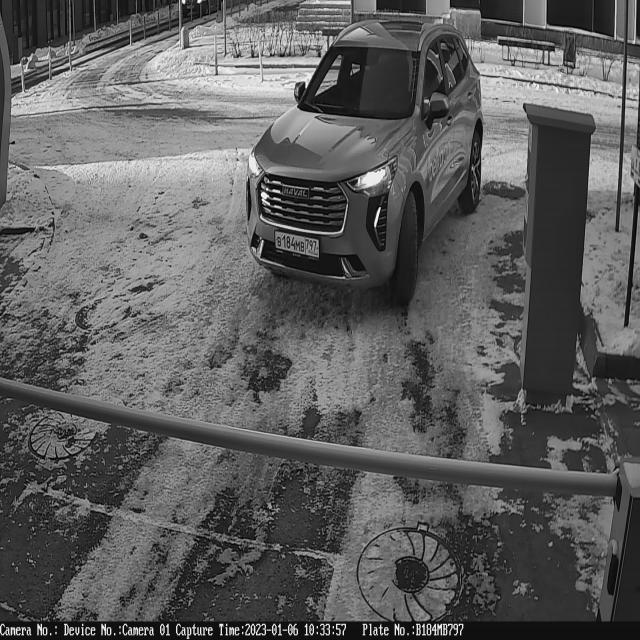car-plate-numbers: (272, 227, 322, 268)
